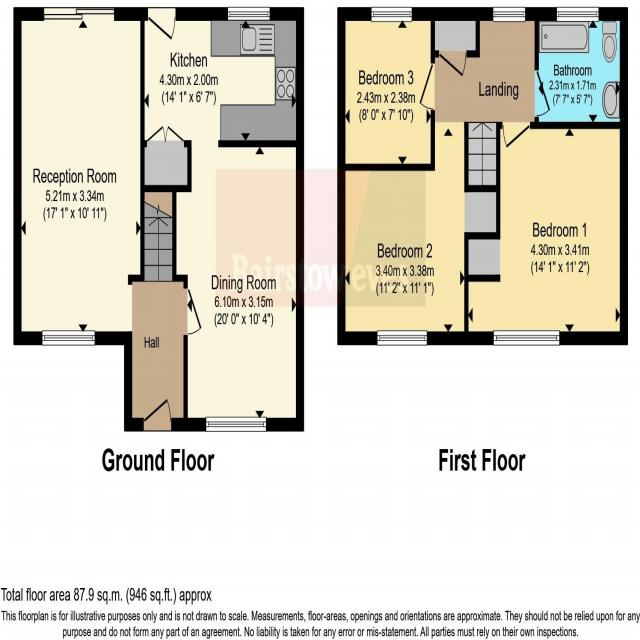DOOR: (147, 6, 177, 42), (142, 397, 172, 432), (183, 285, 202, 336), (534, 68, 552, 118), (417, 61, 435, 111), (502, 121, 531, 150)
ROOM: (140, 6, 304, 432), (464, 121, 628, 346), (337, 122, 501, 346), (337, 6, 435, 171)
SLIDING DOOR: (43, 5, 116, 24)
WINDOW: (205, 415, 267, 434), (493, 330, 560, 347), (41, 330, 95, 347), (377, 330, 428, 346), (556, 6, 599, 23), (370, 6, 413, 23), (227, 6, 270, 22), (493, 6, 526, 23)
